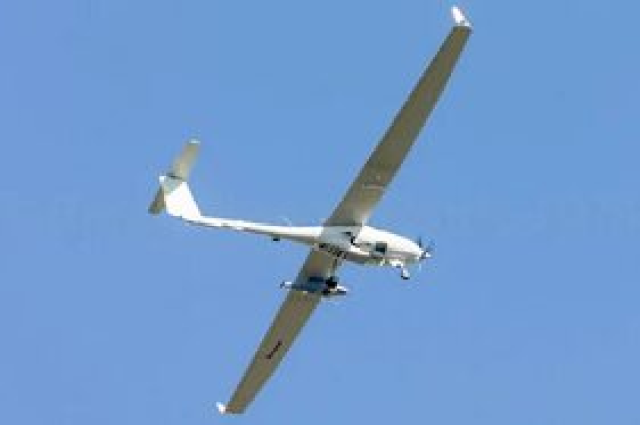military drone: (146, 3, 476, 414)
